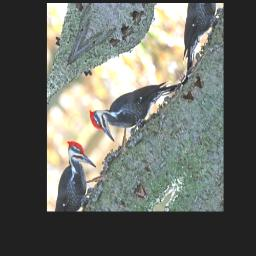Woodpecker: (84, 37, 185, 163)
